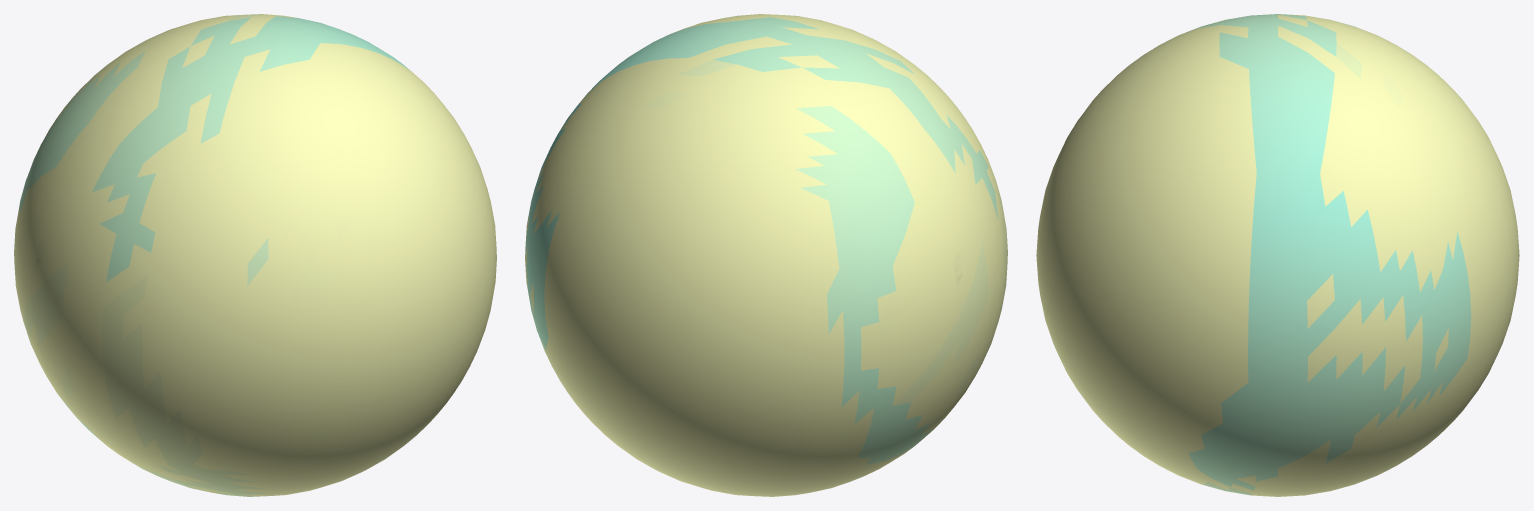
File: Hatom.glb
The picture shows the model from 3 angles, left to right: view 1: azimuth 30°, elevation 25°; view 2: azimuth 150°, elevation 25°; view 3: azimuth 270°, elevation 25°; orthographic projection.
Visible parts, largest first — view 1: node_id5; view 2: node_id5; view 3: node_id5.
Boxes of the visible parts, bbox=[...] form: node_id5: bbox=[14, 14, 496, 496]; node_id5: bbox=[525, 14, 1007, 496]; node_id5: bbox=[1036, 14, 1519, 496].
Size of the model in its own units: 0.512 by 0.512 by 0.512.
Materials: 1 (1 with a texture image).
